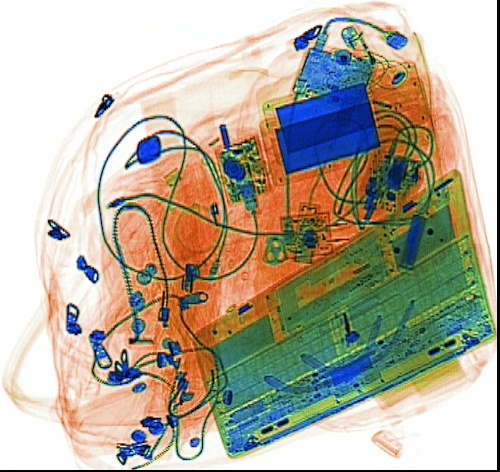lighter: (340, 20, 390, 93)
